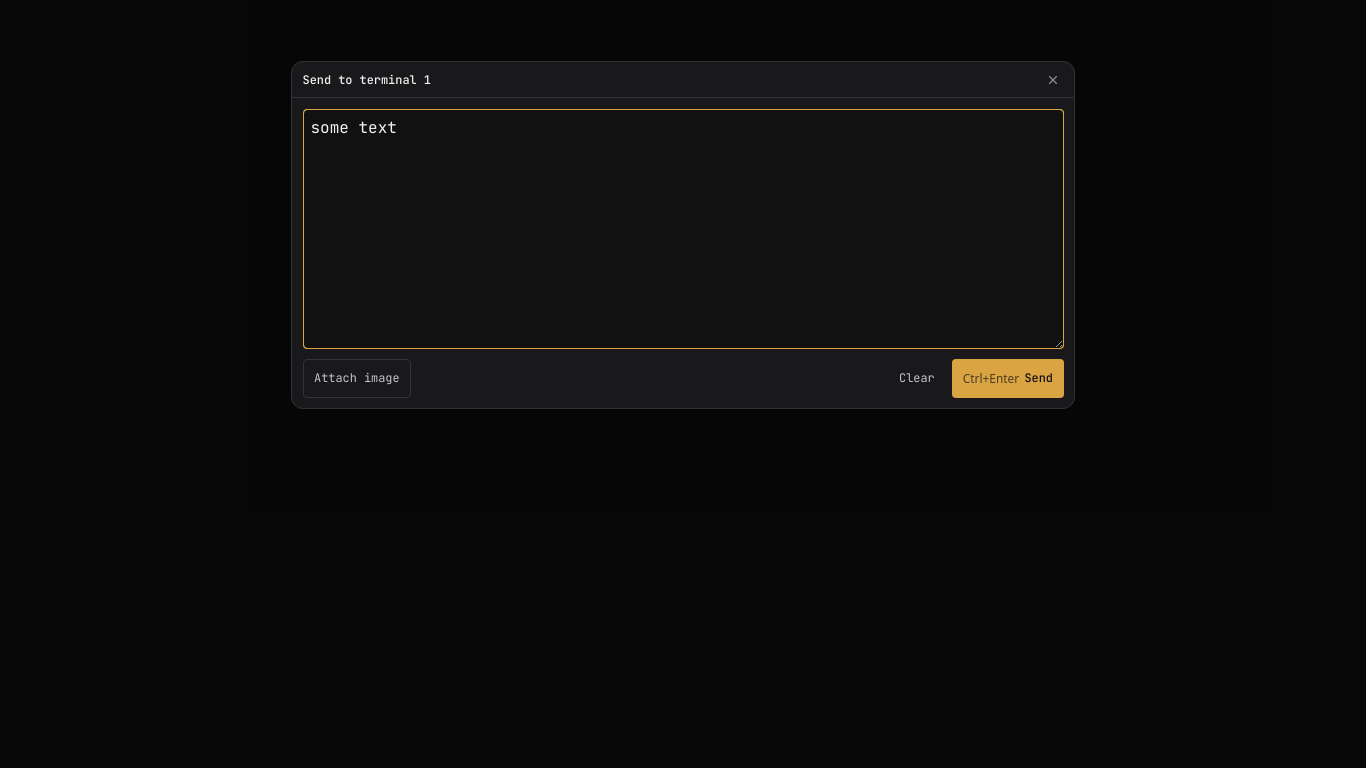
Test: ComposeDialog › clear_empties_the_field
The image size is (1366, 768).
Click the button "Clear". click: (917, 379)
box: [888,359,945,398]
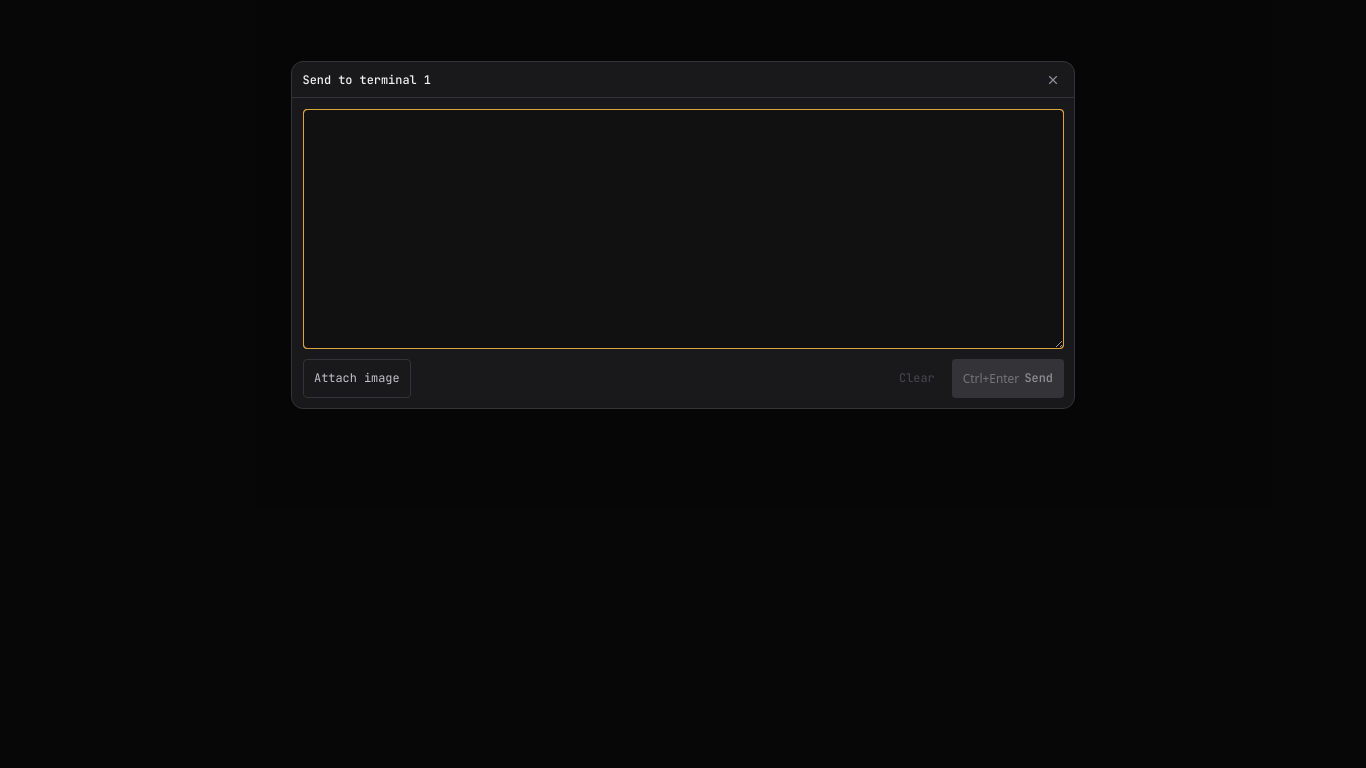
Now the text box named "message" is empty, box [302,109,1064,349]
